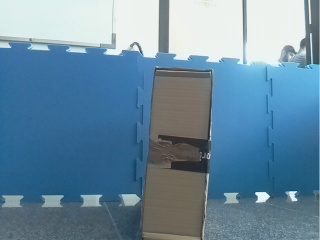caja: (140, 65, 217, 237)
